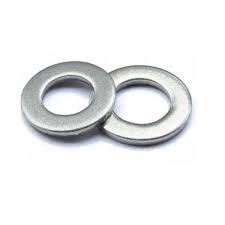No thread: (108, 78, 172, 126), (38, 78, 97, 118)
